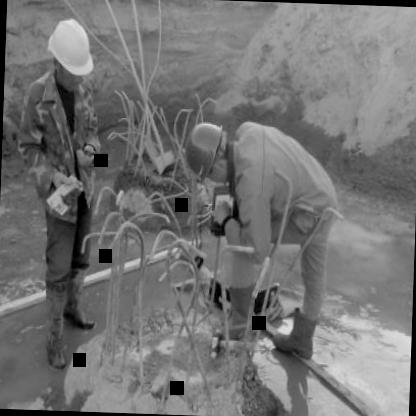helmet: (42, 11, 100, 98), (178, 118, 230, 188)
